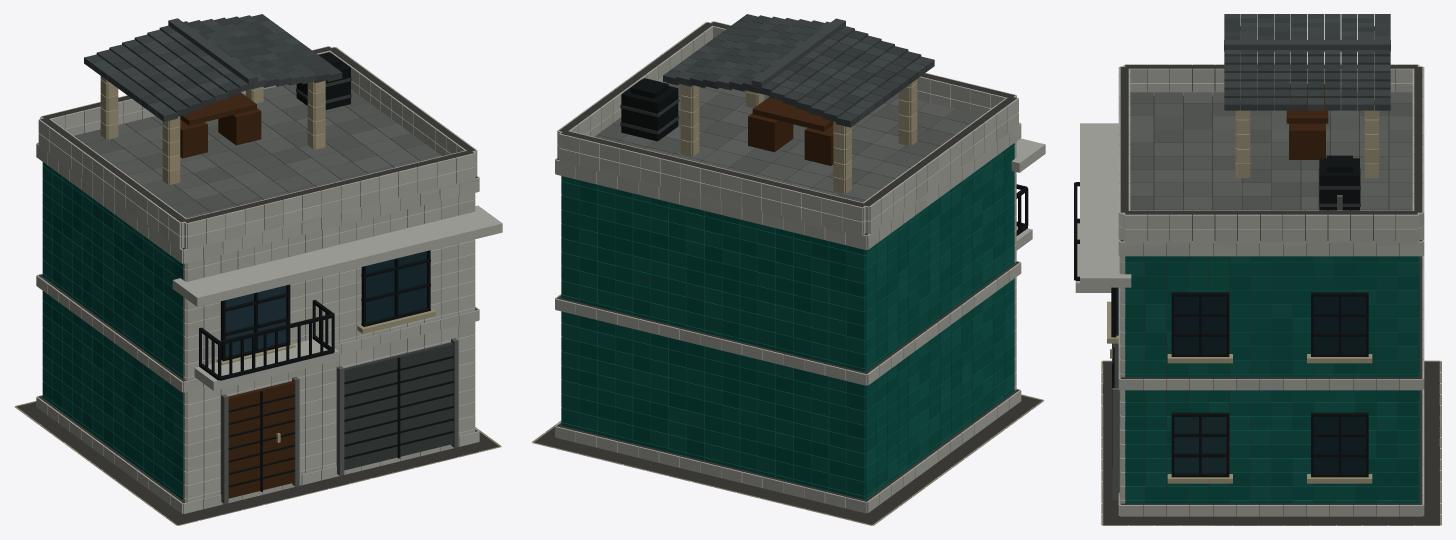
The model's file is SM_Mapa_045.fbx.
The picture shows the model from 3 angles, left to right: view 1: azimuth 30°, elevation 25°; view 2: azimuth 150°, elevation 25°; view 3: azimuth 270°, elevation 25°; orthographic projection. The views are drawn at different scales.
Parts seen in each view (by area): view 1: SM_Mapa_045; view 2: SM_Mapa_045; view 3: SM_Mapa_045.
Boxes of the visible parts, bbox=[...] form: SM_Mapa_045: bbox=[14, 14, 502, 525]; SM_Mapa_045: bbox=[532, 14, 1045, 525]; SM_Mapa_045: bbox=[1074, 14, 1441, 525].
Size of the model in its own units: 8 by 7.53 by 8.74.
